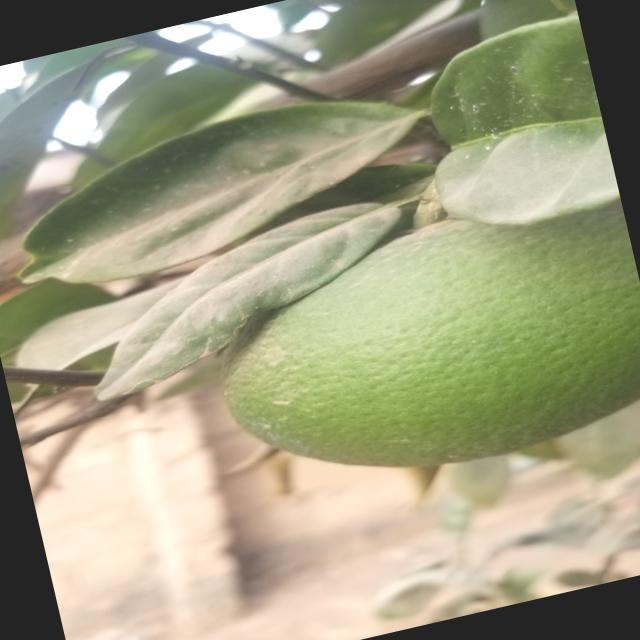agrume: (194, 183, 640, 510)
